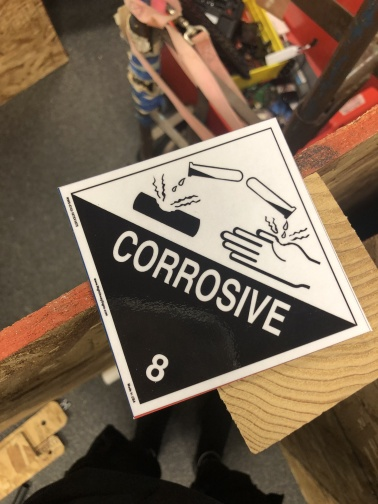Corrosive: (57, 116, 375, 420)
